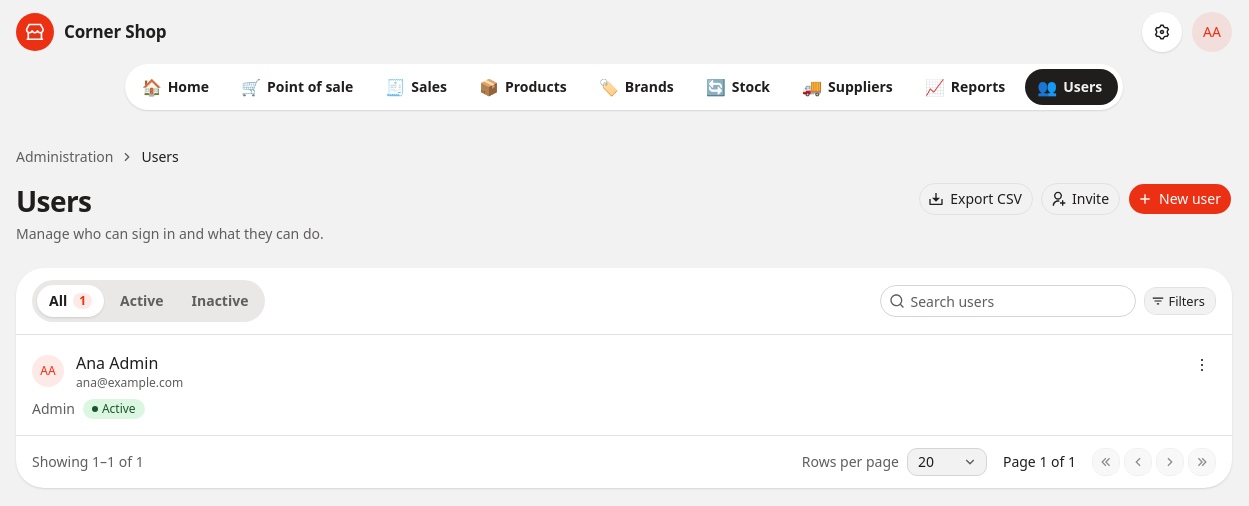
Test: UserListPage (compact) › keeps the row actions on the cards, without deactivate on your own card
What coordinates should you click on to do the following:
click the button named "Actions"
I would click on:
 (1202, 365)
Its box is [1188,351,1216,379].
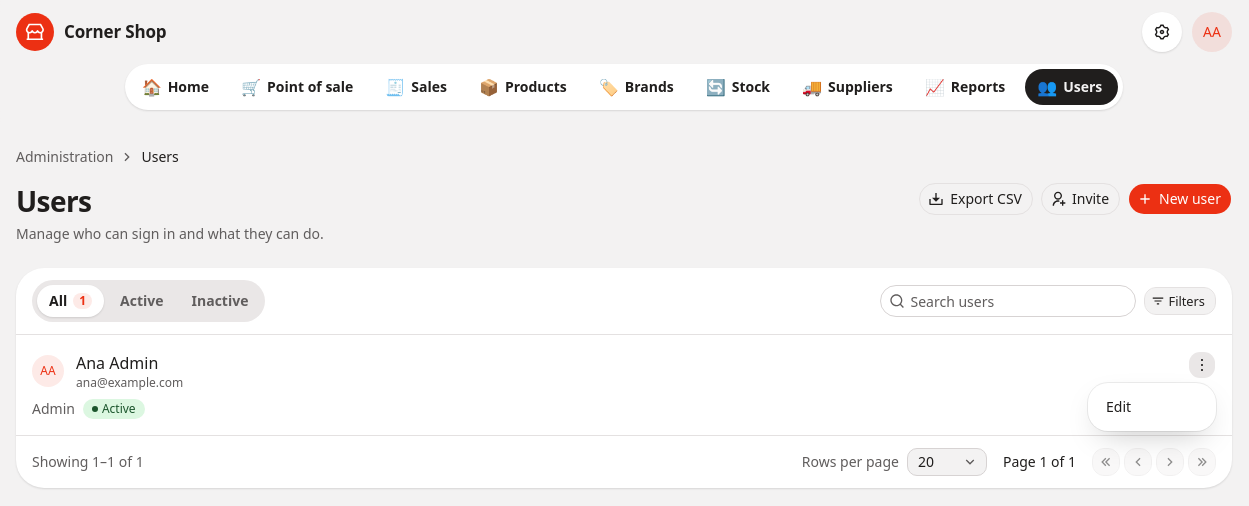
Result: the menu item "Edit" is shown at [1106,397,1131,416]
